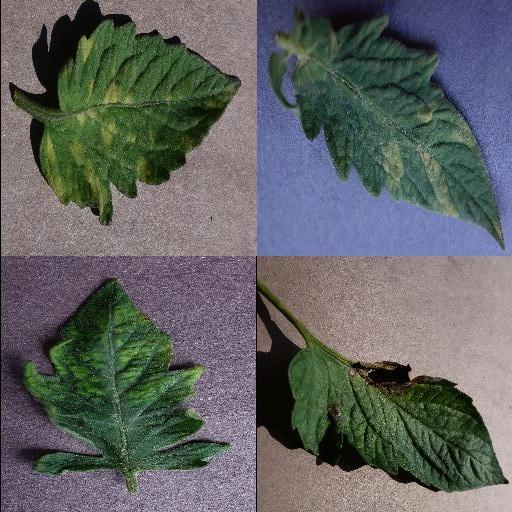Late Blight: (288, 345, 508, 495)
Leaf Mold: (290, 15, 506, 249), (38, 19, 240, 225)
Mosaic Virus: (21, 273, 233, 479)
